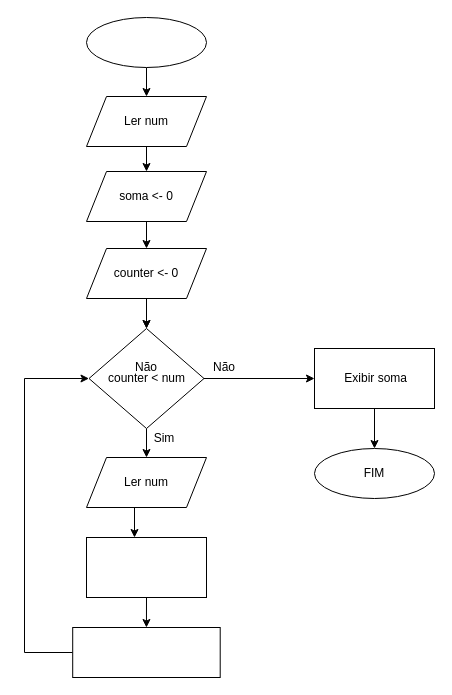
This 452x695 diagram has some shape labels left out. Each missing label, with the centre of its shape:
"counter <- counter + 1" belongs at point 146,652.
"INICIO" belongs at point 146,42.
"soma <- soma + num" belongs at point 146,567.
